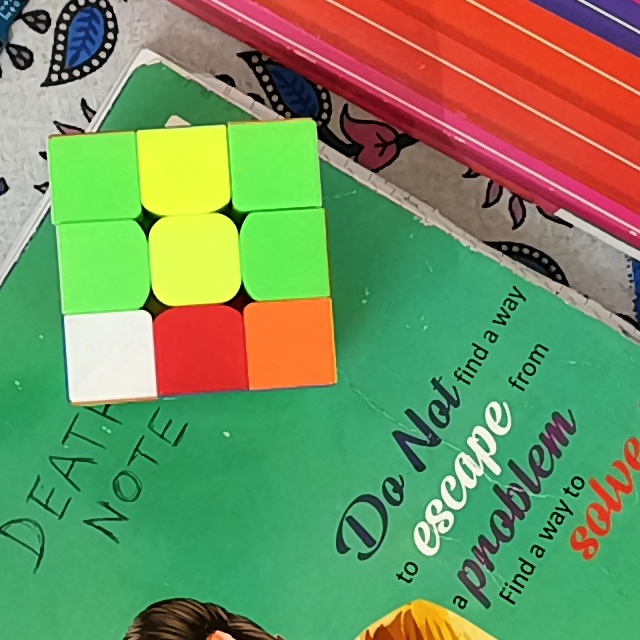tile: (236, 127, 314, 201), (71, 318, 150, 390), (56, 139, 132, 212), (252, 308, 329, 380), (252, 218, 324, 294), (67, 227, 140, 301), (160, 316, 238, 385), (148, 133, 222, 204), (157, 225, 232, 294)
